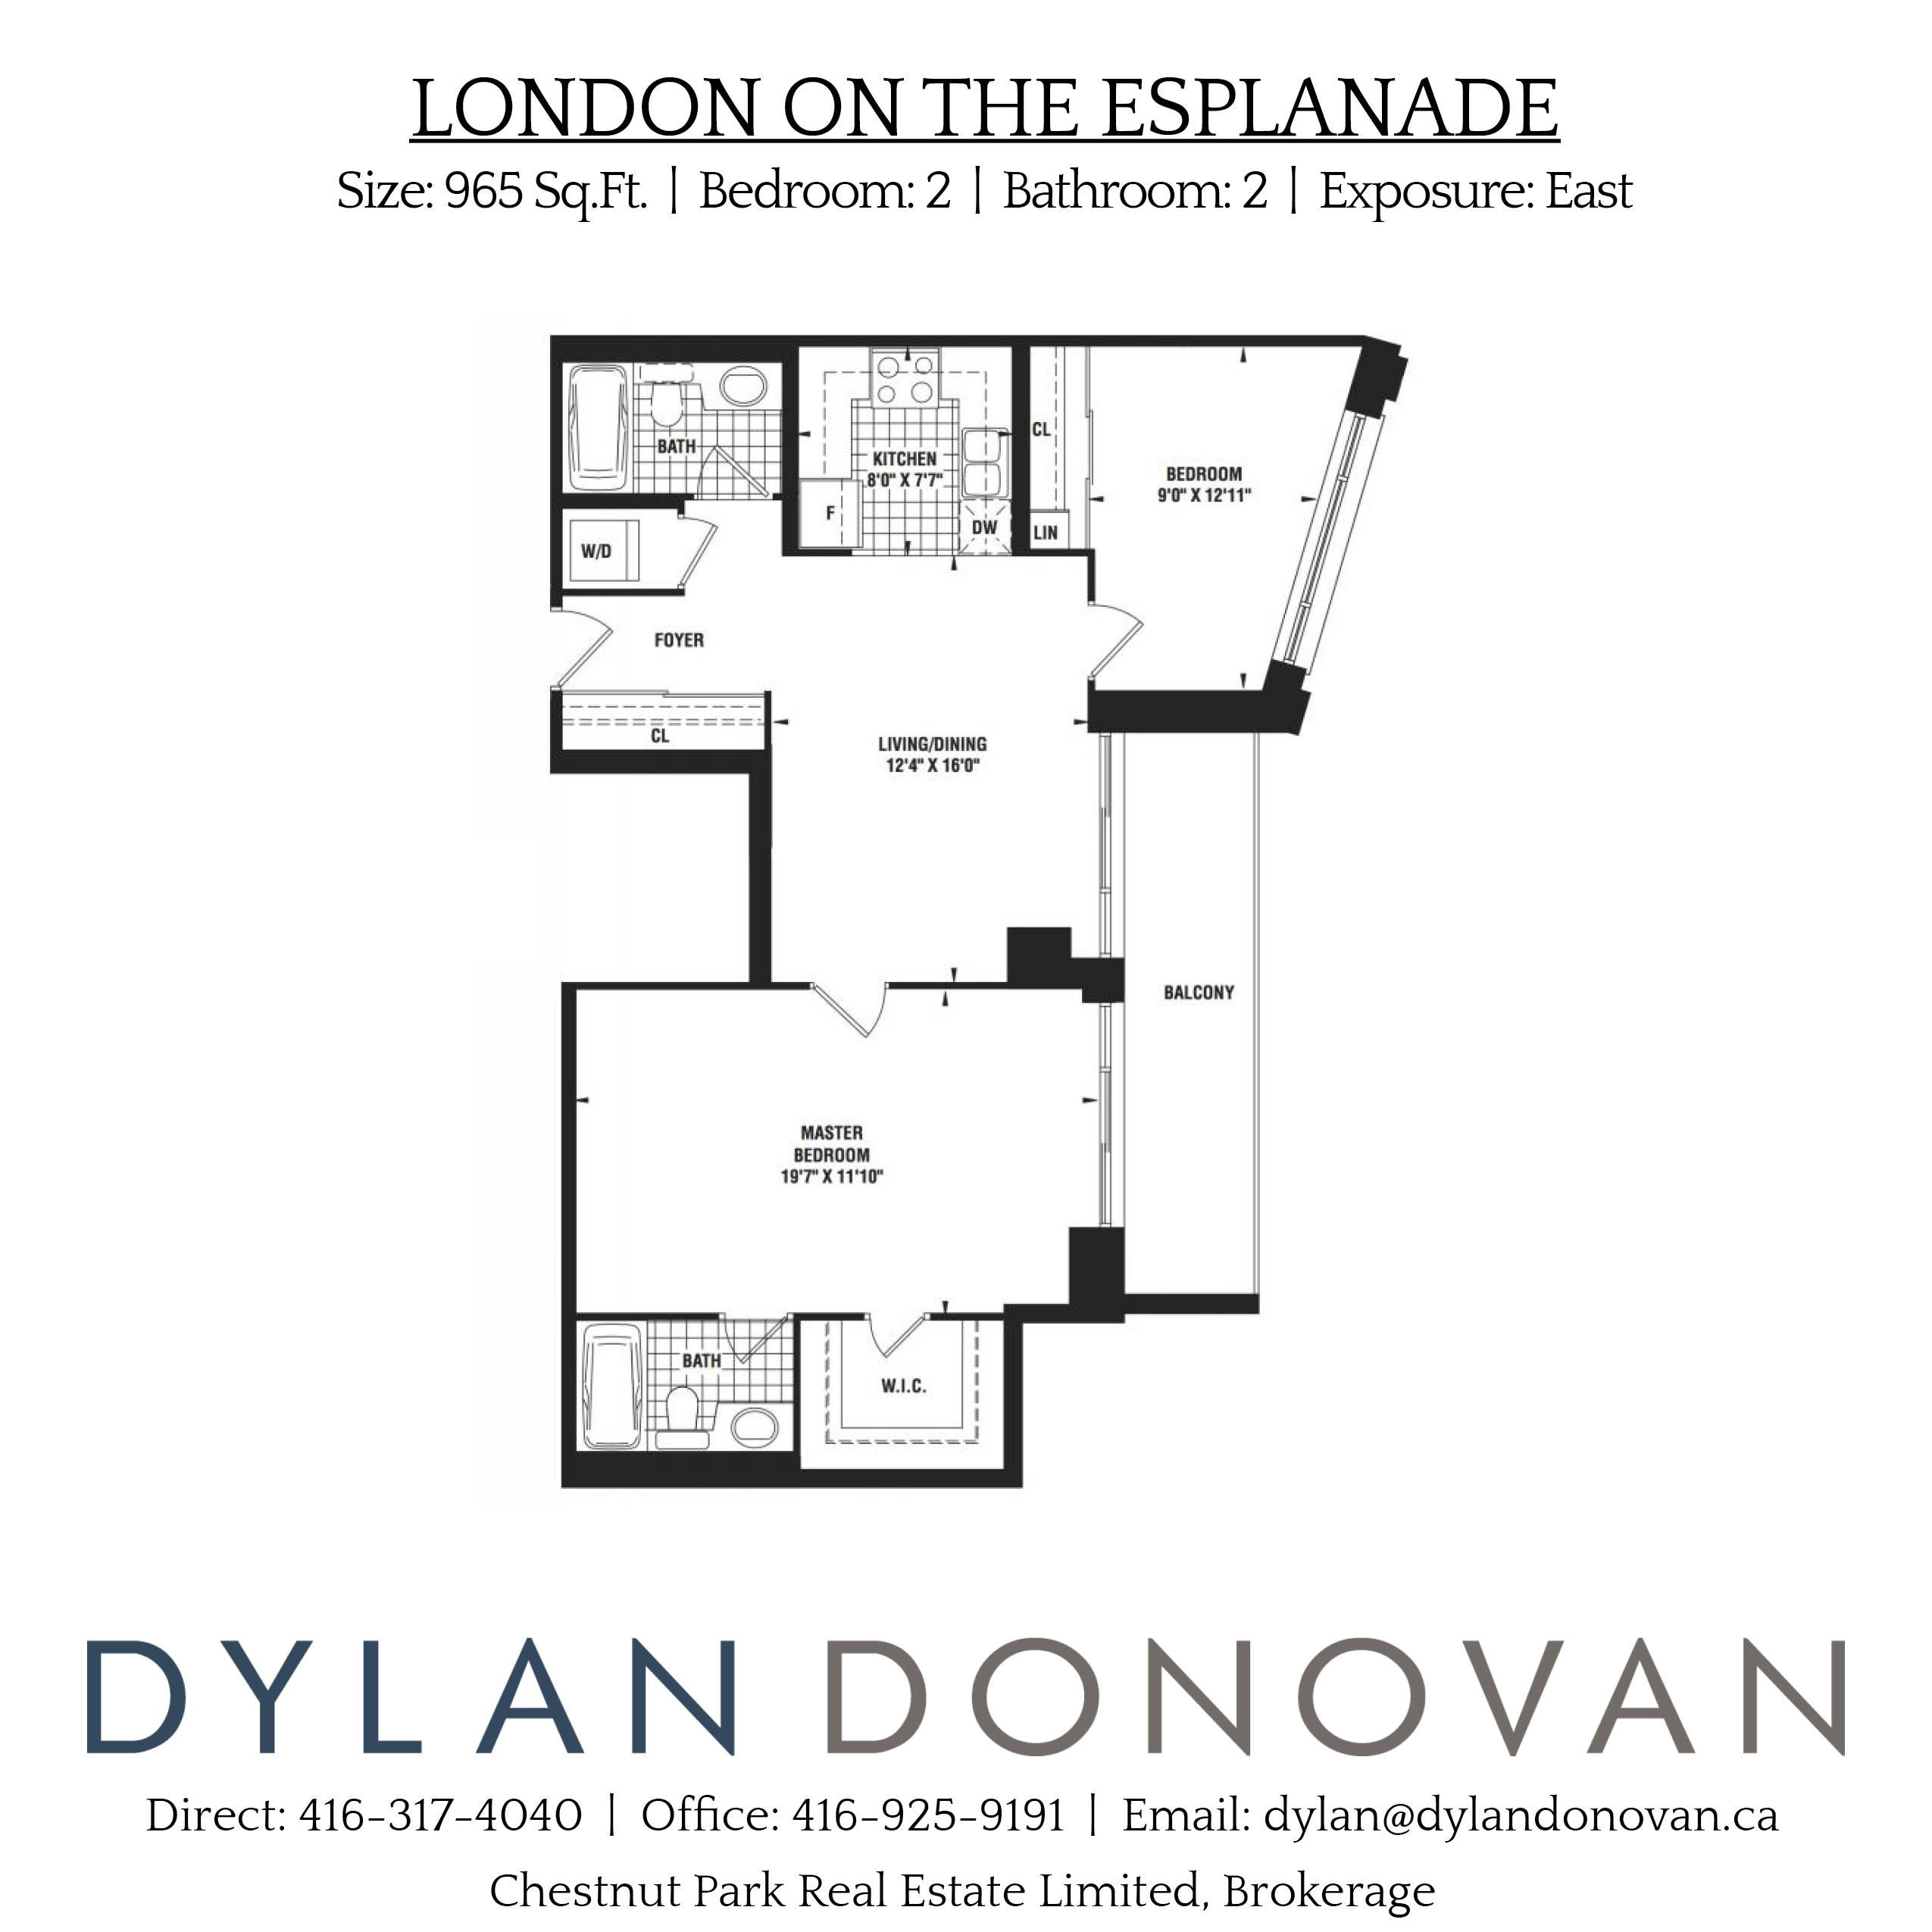door: (810, 989, 901, 1053), (1088, 607, 1155, 674), (564, 602, 625, 676), (855, 1322, 929, 1364), (686, 518, 734, 580)
